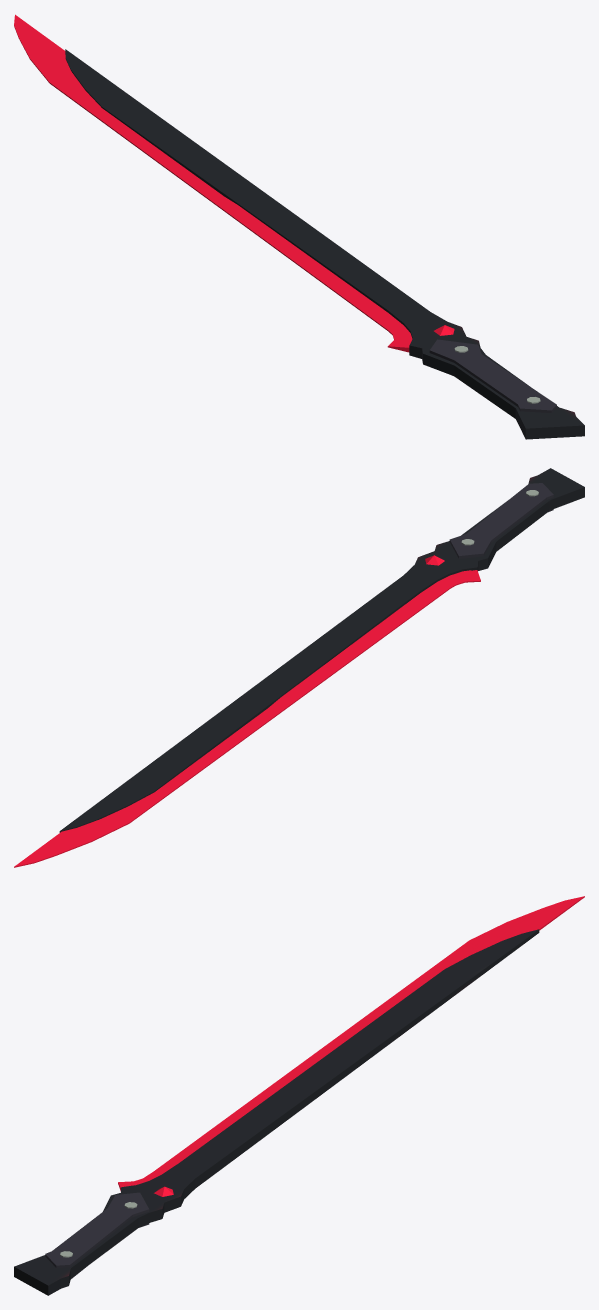
File: blade_of_ionia_red.glb
3 renders of one model, top to bottom at view 1: azimuth 30°, elevation 25°; view 2: azimuth 150°, elevation 25°; view 3: azimuth 330°, elevation 25°, orthographic. The views are drawn at different scales.
Parts seen in each view (by area): view 1: Blade_Of_Ionia; view 2: Blade_Of_Ionia; view 3: Blade_Of_Ionia.
Boxes of the visible parts, x1,y1,x2,y2 form: Blade_Of_Ionia: [14, 14, 584, 439]; Blade_Of_Ionia: [14, 468, 584, 867]; Blade_Of_Ionia: [14, 896, 584, 1295].
Bounding box in the file's own units: 0.049 × 0.0156 × 0.6862.
1 material, 1 textured.
